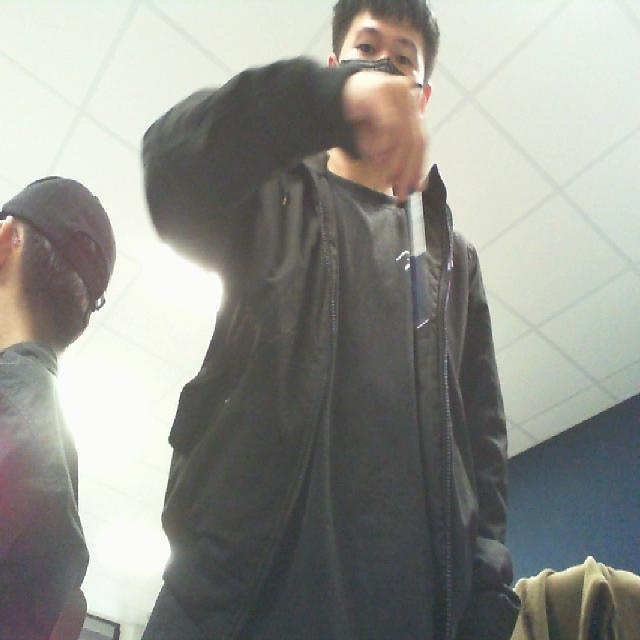Pen: (394, 159, 456, 353)
